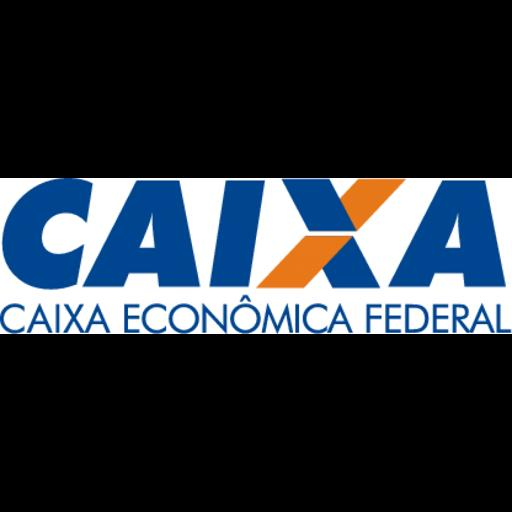Caixa Economica Federal: (0, 178, 512, 334)
